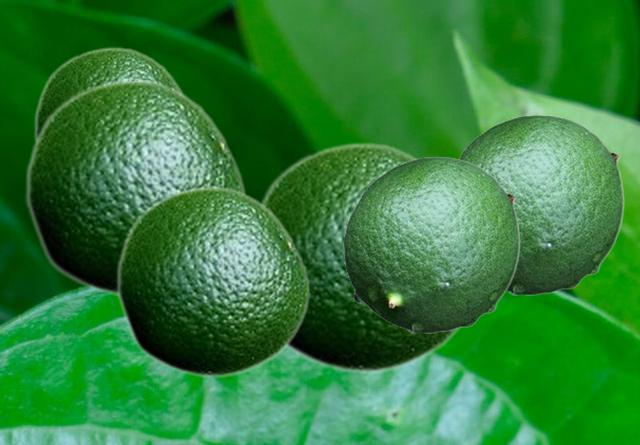calamansi: (24, 78, 246, 298), (258, 141, 464, 374), (115, 185, 310, 378), (343, 156, 519, 332), (457, 114, 623, 294), (33, 46, 185, 138)
